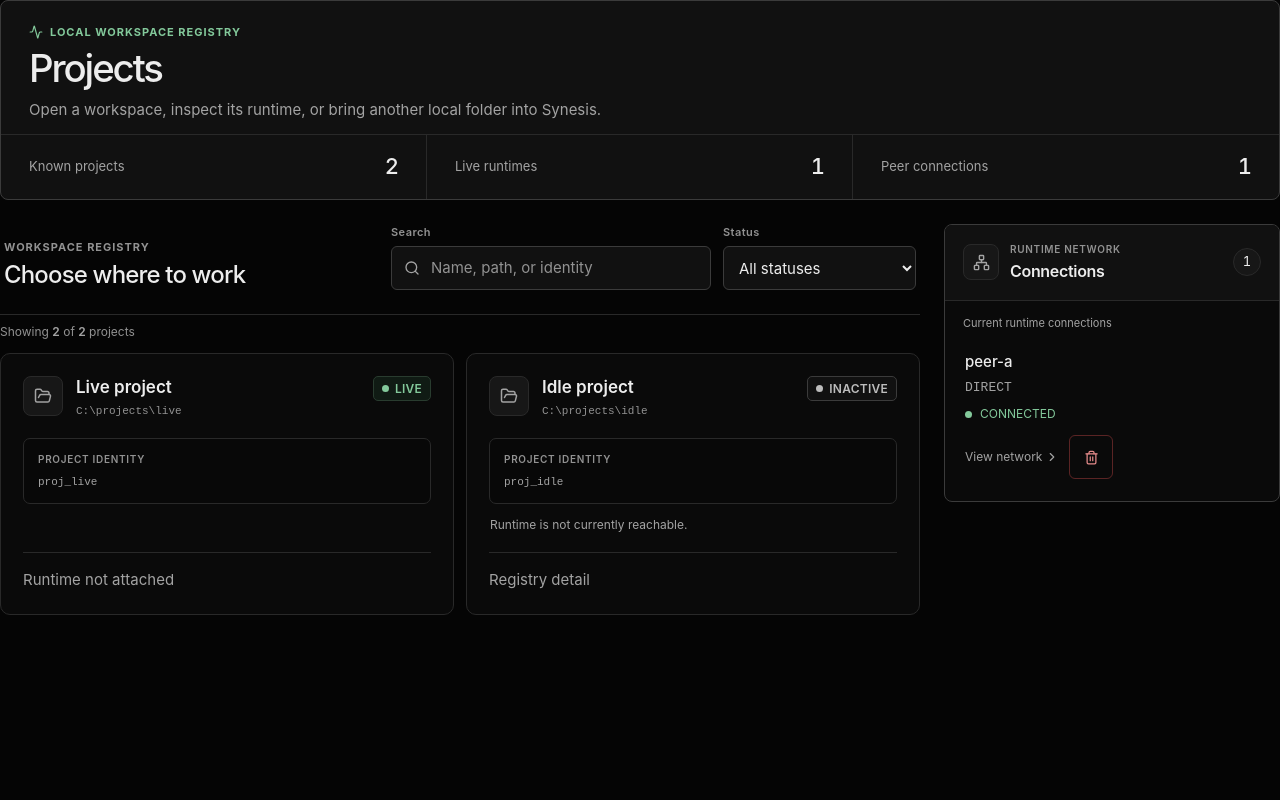
Test: truthful product states › shows network and termination controls for each projected connection
The width and height of the screenshot is (1280, 800).
Expected: the button "View network" is shown, [965, 444, 1059, 470]
Click the button named "Terminate connection to peer-a".
click(1091, 457)  # box [1069, 435, 1113, 479]
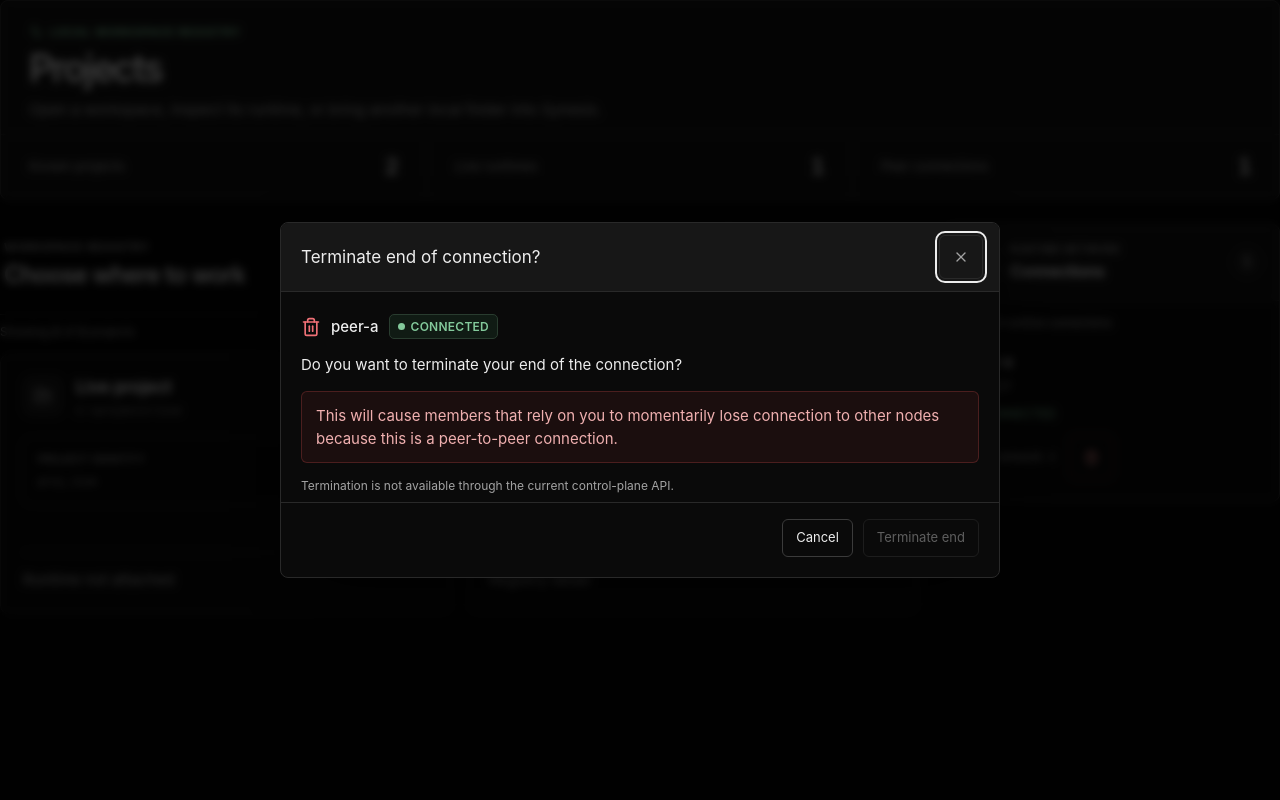
Expected: the dialog is shown, [280, 222, 1000, 578]
Expected: the text "Do you want to terminate your end of the connection?" is shown, [301, 355, 682, 374]
Expected: the text "peer-to-peer connection" is shown, [301, 391, 979, 463]
Click the button "Cancel".
click(818, 538)  # box [782, 519, 853, 557]
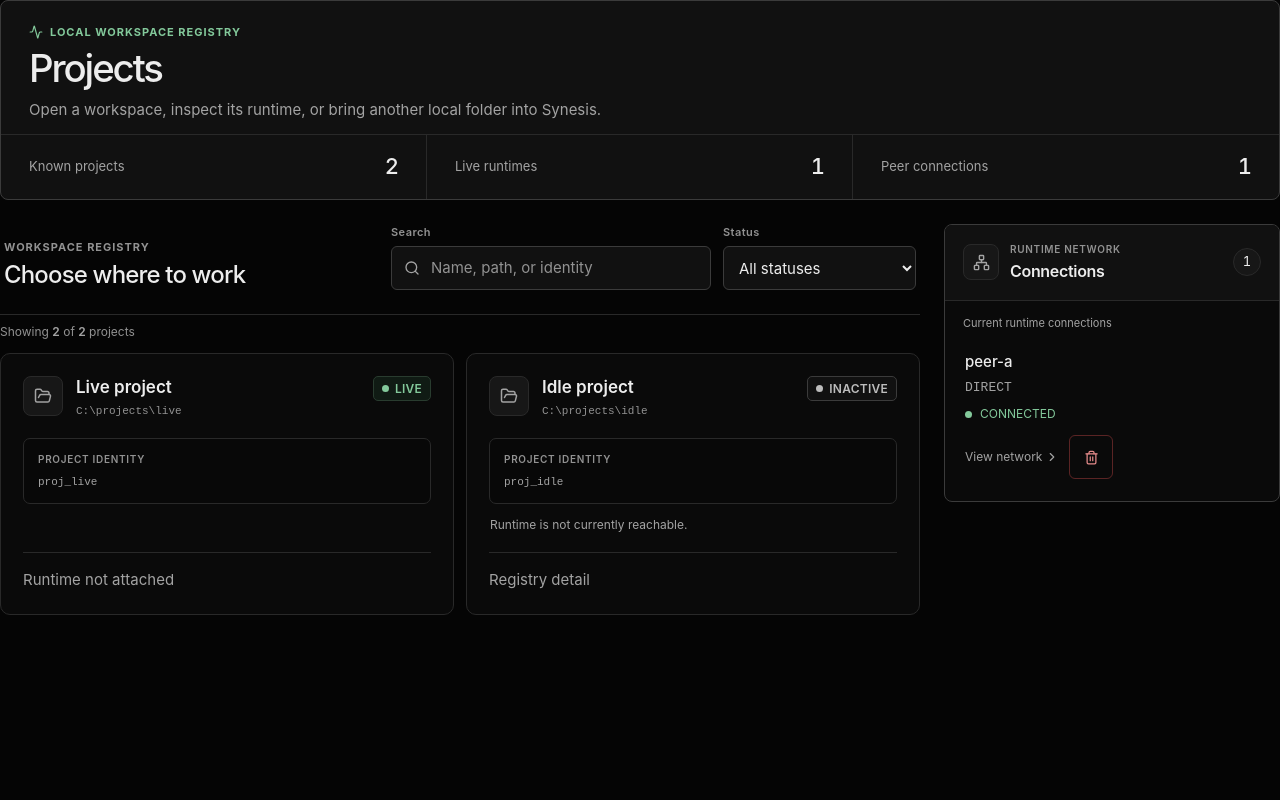
Expected: the dialog is gone
